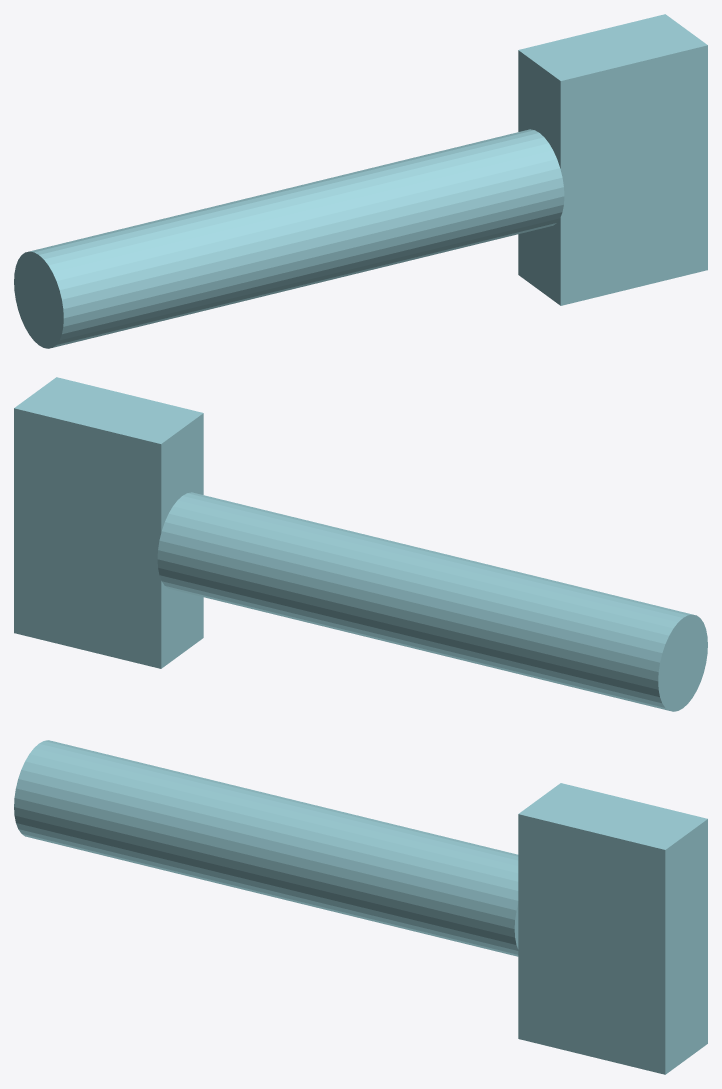
File: cylinder_hammer_v1001.obj
The picture shows the model from 3 angles, top to bottom: view 1: azimuth 30°, elevation 25°; view 2: azimuth 150°, elevation 25°; view 3: azimuth 330°, elevation 25°; orthographic projection.
Size of the model in its own units: 0.2469 by 0.0819 by 0.0329.
Materials: 1 (1 with a texture image).
